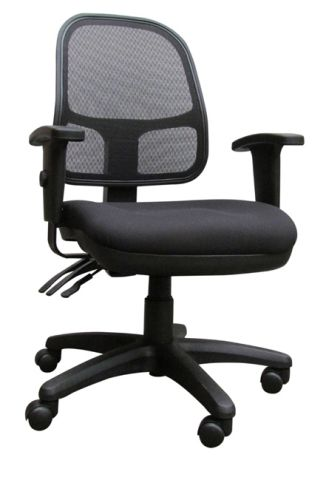chairs: (20, 11, 305, 451)
